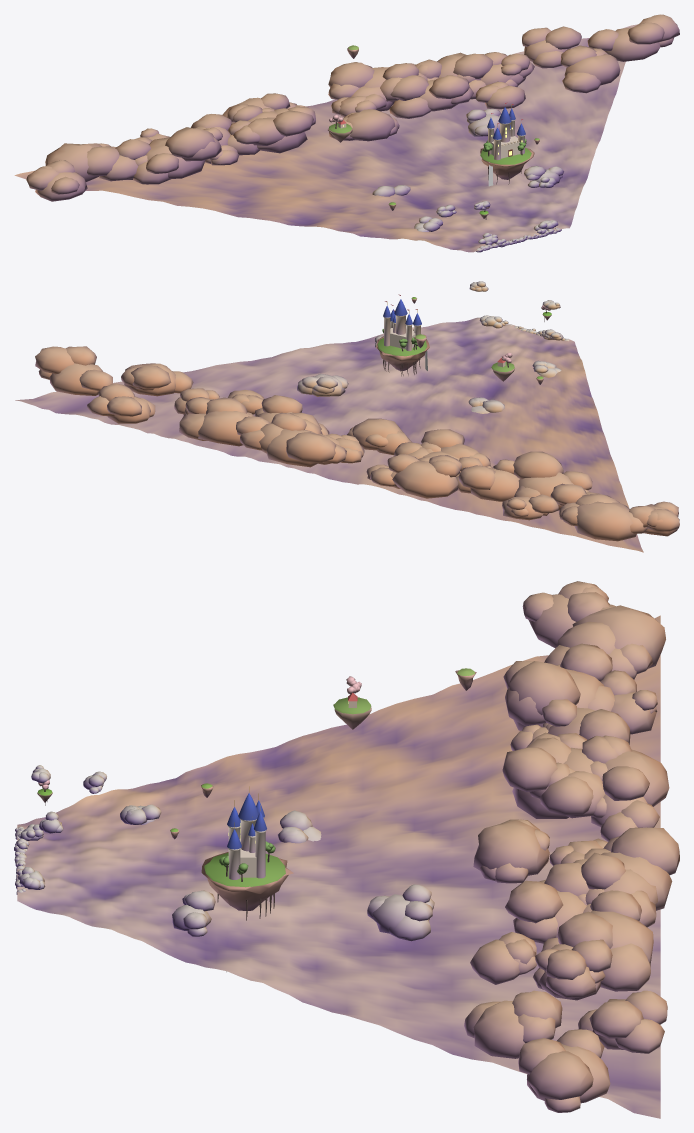
File: backdrop_3.glb
The picture shows the model from 3 angles, top to bottom: view 1: azimuth 30°, elevation 25°; view 2: azimuth 150°, elevation 25°; view 3: azimuth 270°, elevation 25°; orthographic projection. The views are drawn at different scales.
Parts seen in each view (by area): view 1: mid_cloudsea, far_clouds, float_0, drift_3, fg_clouds, drift_1, float_1, fg_bank; view 2: mid_cloudsea, far_clouds, float_0, drift_3, fg_clouds, drift_2; view 3: mid_cloudsea, far_clouds, float_0, drift_3, fg_clouds, drift_1, float_1, drift_2.
Part boxes in pixels (x1=…): mid_cloudsea: x1=14, y1=24, x2=637, y2=252; far_clouds: x1=26, y1=14, x2=679, y2=201; float_0: x1=480, y1=102, x2=534, y2=186; drift_3: x1=466, y1=108, x2=500, y2=136; fg_clouds: x1=474, y1=177, x2=558, y2=244; drift_1: x1=524, y1=165, x2=563, y2=187; float_1: x1=328, y1=114, x2=352, y2=142; fg_bank: x1=476, y1=227, x2=561, y2=252; mid_cloudsea: x1=15, y1=317, x2=643, y2=552; far_clouds: x1=35, y1=346, x2=679, y2=541; float_0: x1=376, y1=294, x2=429, y2=376; drift_3: x1=297, y1=373, x2=348, y2=396; fg_clouds: x1=469, y1=281, x2=560, y2=339; drift_2: x1=468, y1=397, x2=504, y2=413; mid_cloudsea: x1=17, y1=615, x2=660, y2=1118; far_clouds: x1=464, y1=581, x2=679, y2=1112; float_0: x1=201, y1=786, x2=293, y2=972; drift_3: x1=367, y1=884, x2=434, y2=941; fg_clouds: x1=16, y1=765, x2=63, y2=889; drift_1: x1=172, y1=890, x2=215, y2=936; float_1: x1=333, y1=676, x2=371, y2=729; drift_2: x1=278, y1=810, x2=321, y2=843.
Bounding box in the file's own units: 377 × 84.45 × 206.
